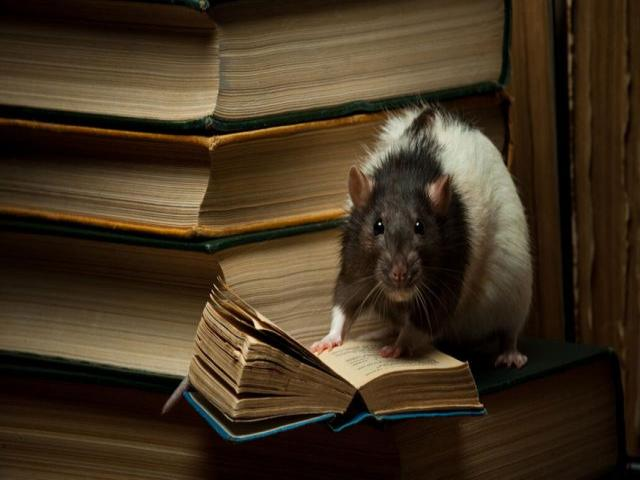Tikus: (308, 104, 532, 366)
